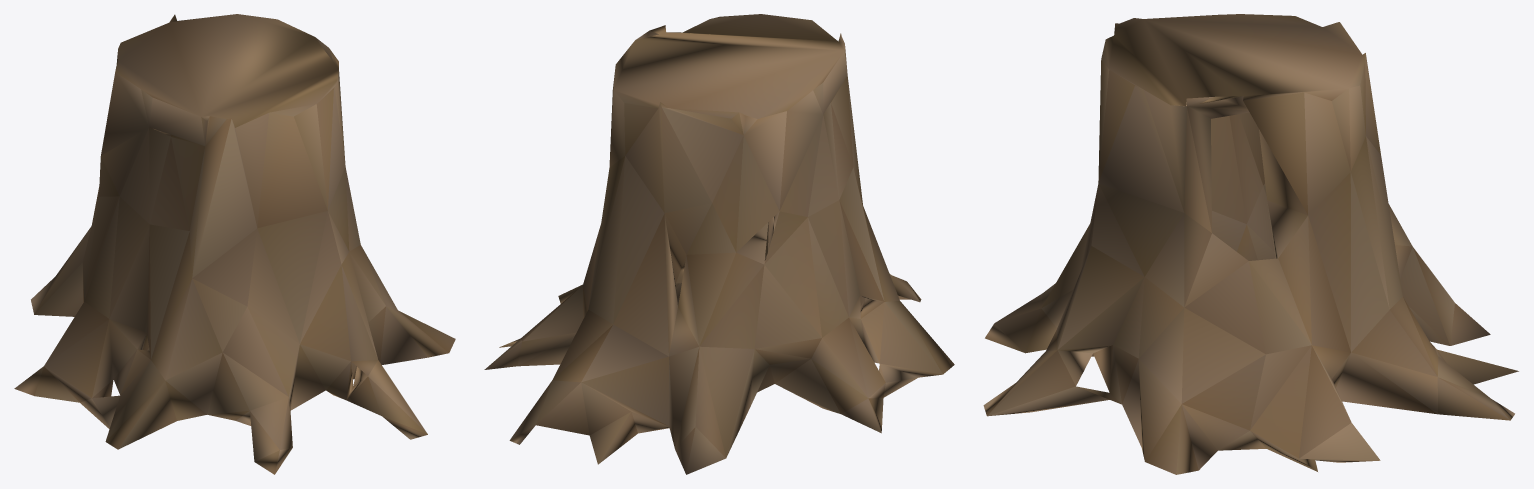
File: oak_stump.glb
3 views of the same model, side by side, from view 1: azimuth 30°, elevation 25°; view 2: azimuth 150°, elevation 25°; view 3: azimuth 270°, elevation 25° (orthographic). The views are drawn at different scales.
Visible parts, largest first — view 1: Stump; view 2: Stump; view 3: Stump.
Boxes of the visible parts, x1,y1,x2,y2 form: Stump: (14, 14, 455, 474); Stump: (484, 14, 954, 474); Stump: (983, 14, 1518, 474).
Bounding box in the file's own units: 0.9961 × 0.7705 × 1.14.
